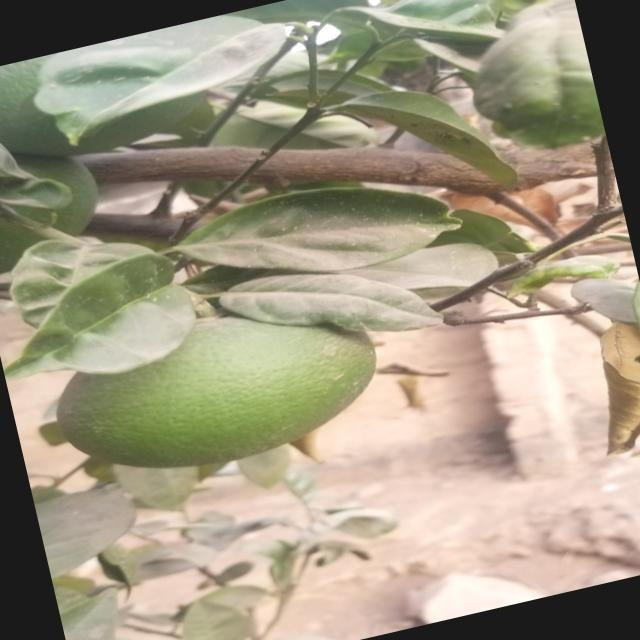agrume: (43, 282, 394, 496)
